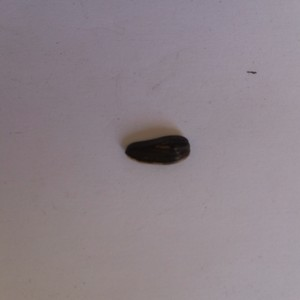girasol: (122, 132, 192, 168)
